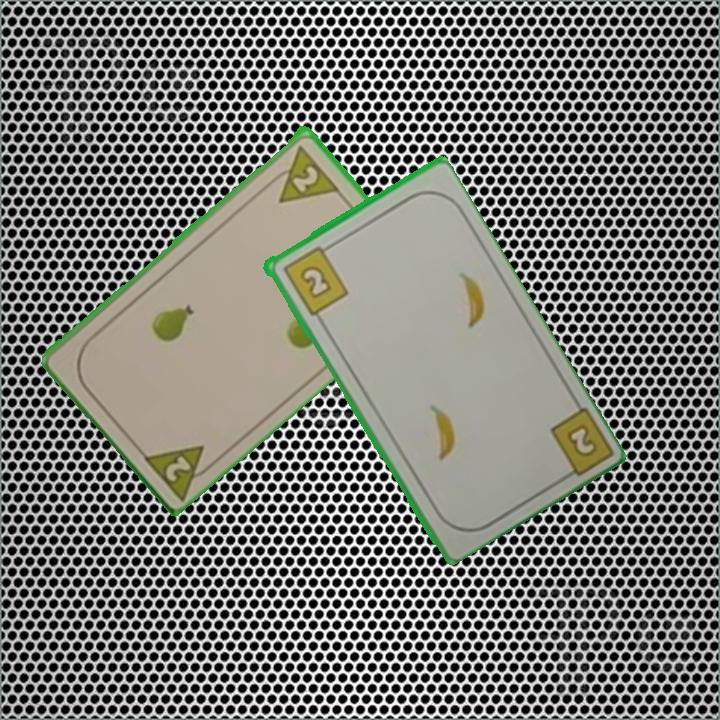2b: (279, 240, 351, 319), (545, 402, 613, 485)
2p: (137, 440, 221, 502), (262, 141, 341, 206)
